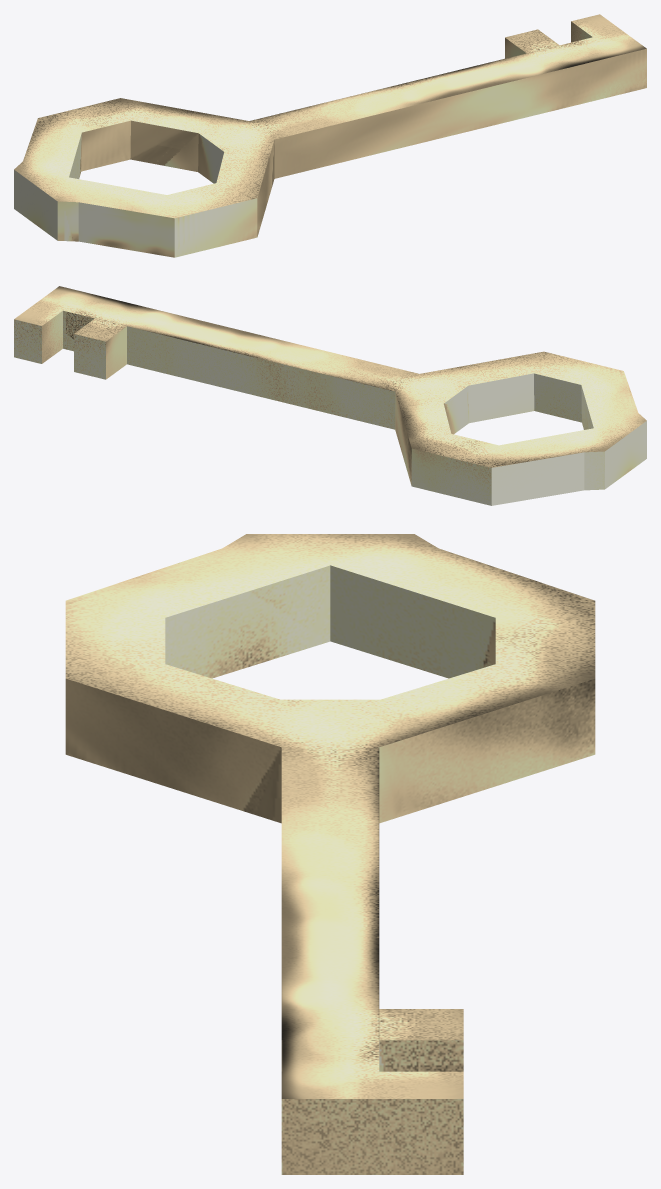
The model's file is KeyModely.fbx.
3 renders of one model, top to bottom at view 1: azimuth 30°, elevation 25°; view 2: azimuth 150°, elevation 25°; view 3: azimuth 270°, elevation 25°, orthographic. The views are drawn at different scales.
Visible parts, largest first — view 1: Cube; view 2: Cube; view 3: Cube.
Boxes of the visible parts, <box> form: Cube: <box>14,14,646,257</box>; Cube: <box>14,286,646,505</box>; Cube: <box>65,534,595,1174</box>.
Size of the model in its own units: 571 by 35.85 by 226.
Materials: 1 (1 with a texture image).
